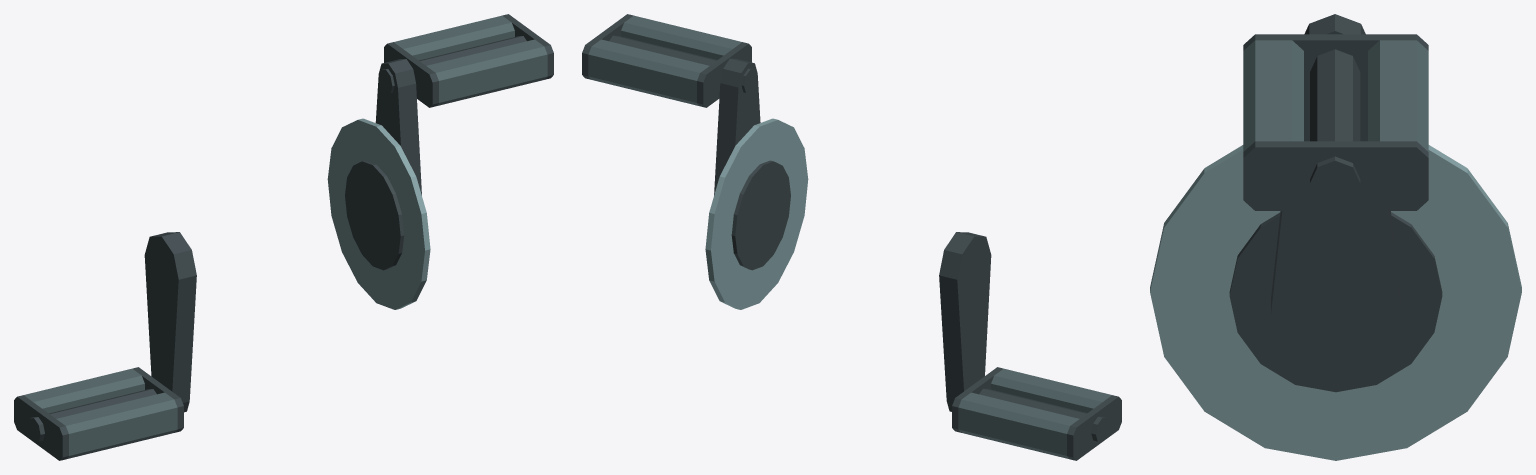
The model's file is pedals.fbx.
The picture shows the model from 3 angles, left to right: view 1: azimuth 30°, elevation 25°; view 2: azimuth 150°, elevation 25°; view 3: azimuth 270°, elevation 25°; orthographic projection. The views are drawn at different scales.
Visible parts, largest first — view 1: 0踏板合併; view 2: 0踏板合併; view 3: 0踏板合併.
Part boxes in pixels (<box>): 0踏板合併: <box>14,14,553,460</box>; 0踏板合併: <box>582,14,1121,460</box>; 0踏板合併: <box>1150,14,1521,460</box>.
Size of the model in its own units: 56.81 by 32.28 by 19.15.
